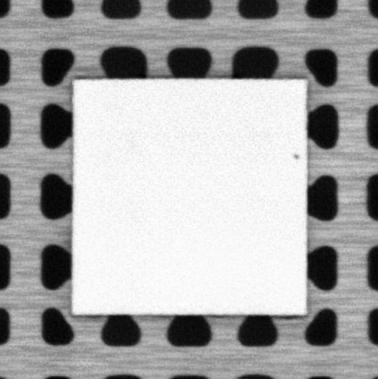DIE_INK: (292, 150, 299, 159)
